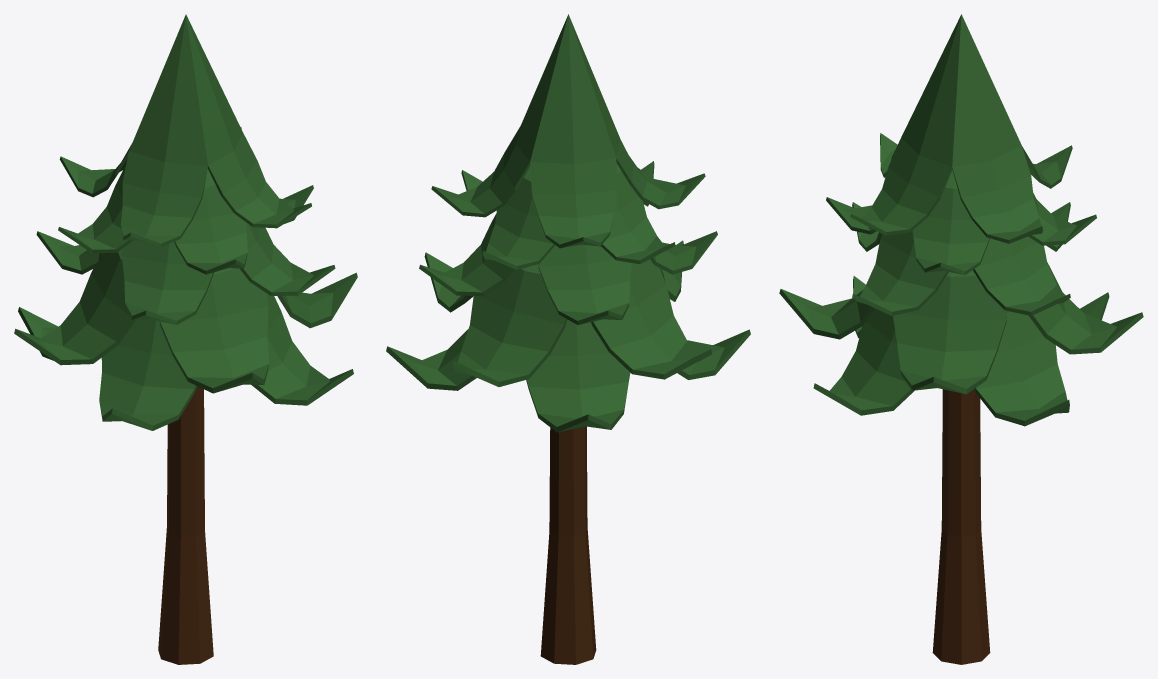
File: PineTreeTall.obj
3 renders of one model, left to right at view 1: azimuth 30°, elevation 25°; view 2: azimuth 150°, elevation 25°; view 3: azimuth 270°, elevation 25°, orthographic.
Parts seen in each view (by area): view 1: PineTreeTall_Cylinder.000; view 2: PineTreeTall_Cylinder.000; view 3: PineTreeTall_Cylinder.000.
Boxes of the visible parts, x1,y1,x2,y2 form: PineTreeTall_Cylinder.000: (14, 14, 357, 664); PineTreeTall_Cylinder.000: (386, 14, 750, 664); PineTreeTall_Cylinder.000: (779, 14, 1143, 664).
Size of the model in its own units: 3.36 by 6.49 by 3.36.
